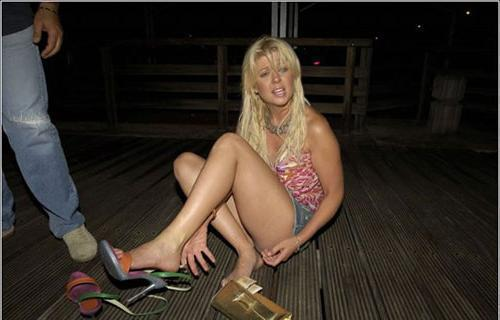Drunk: (250, 54, 295, 107)
